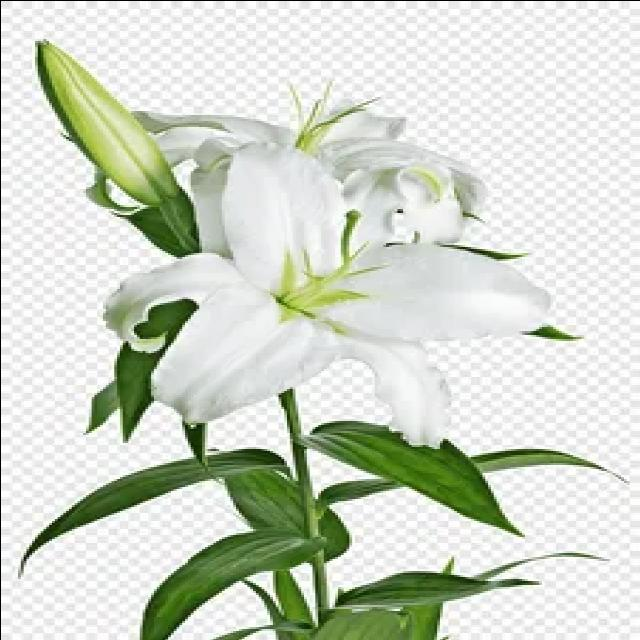lily: (98, 121, 558, 452)
